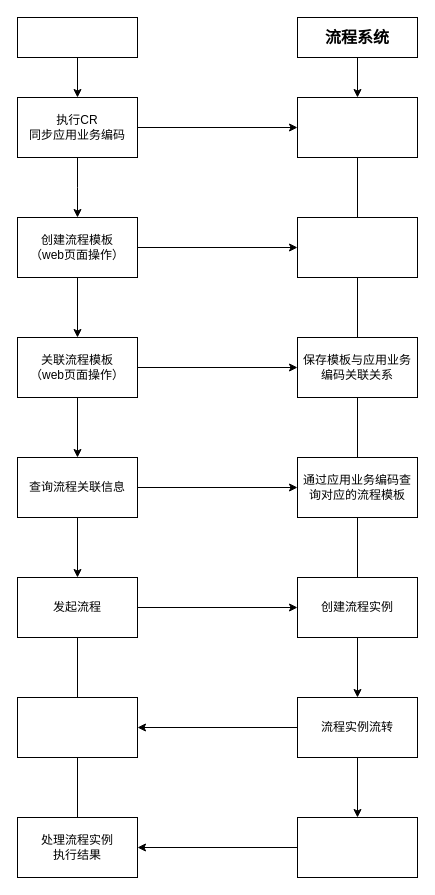
Some shapes in this 435 by 895 pixel diagram are drawn without their labels. The centre of each missing label's shape, as x and y in pixels:
"CR数据同步" belongs at pixel 357 127.
"业务侧" belongs at pixel 77 37.
"保存模板数据" belongs at pixel 357 247.
"处理流程节点 执行结果" belongs at pixel 77 727.
"流程实例结束" belongs at pixel 357 847.
